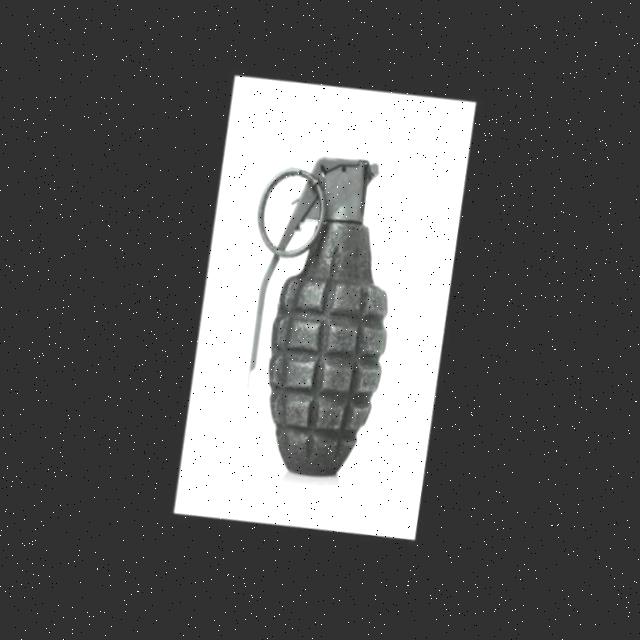grenade: (203, 112, 436, 512)
